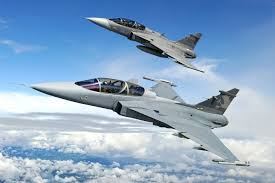fighter: (23, 71, 253, 169), (80, 12, 208, 75)
